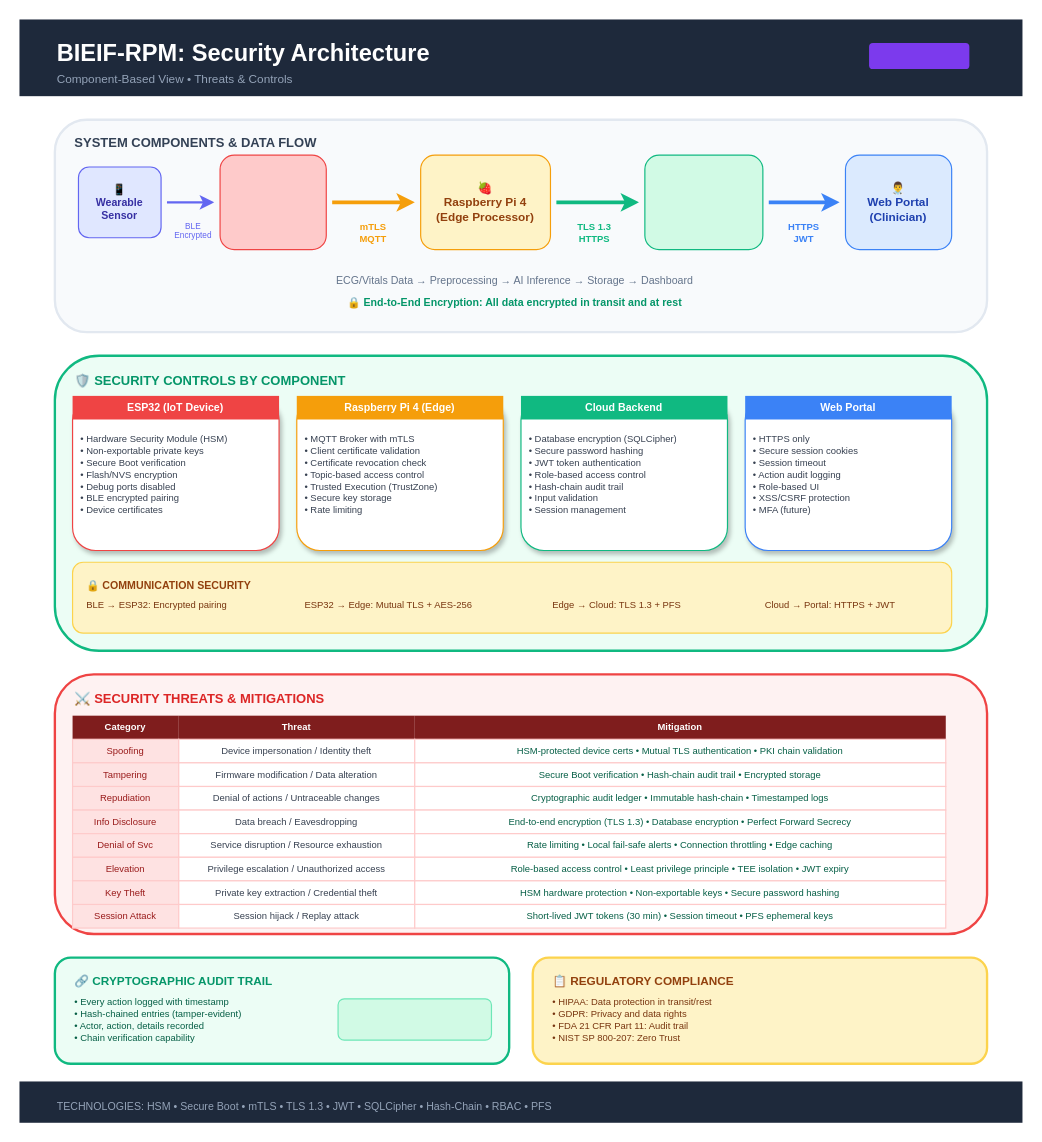
Image size: 1042x1142. Some labels were removed from this diagram. Here are the shapes that lost their labels. From the top down, the centre of each, then its label:
(x=918, y=55): ZERO TRUST
(x=272, y=202): ⚡ ESP32 (IoT Device)
(x=703, y=202): ☁️ Cloud Backend (FastAPI)
(x=414, y=1019): [Genesis] → [Login] → [Ingest] → [View] → ✓
